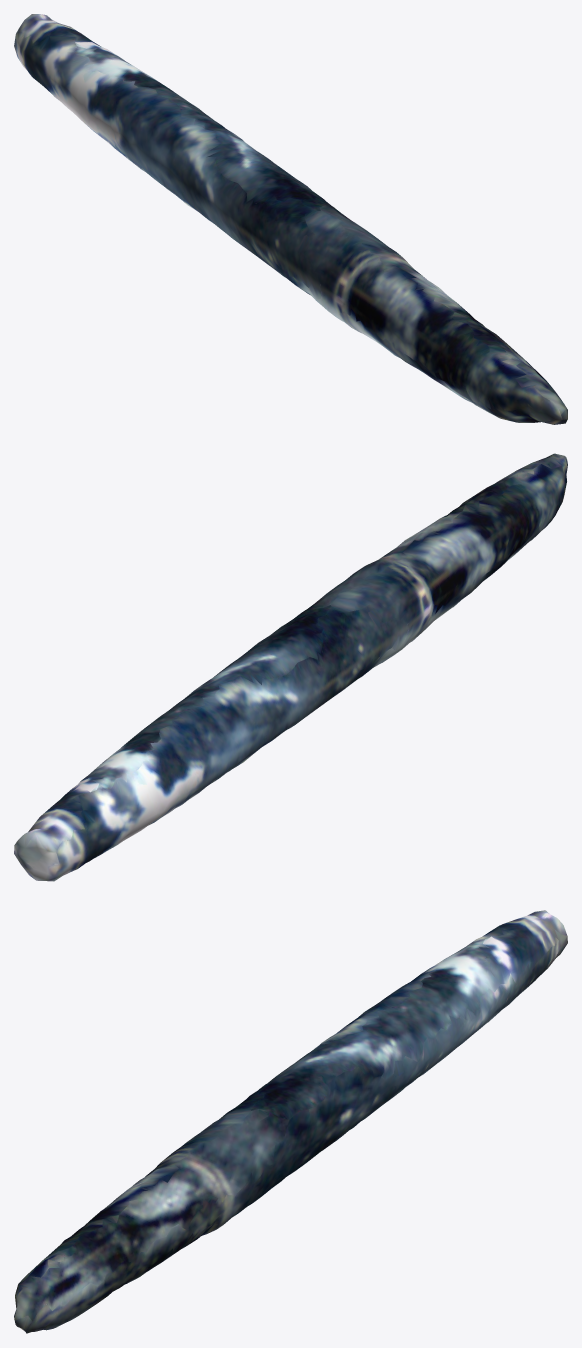
The model's file is scan_align.obj.
3 renders of one model, top to bottom at view 1: azimuth 30°, elevation 25°; view 2: azimuth 150°, elevation 25°; view 3: azimuth 330°, elevation 25°, orthographic.
Size of the model in its own units: 0.0098 by 0.00988 by 0.1194.
1 material, 1 textured.
